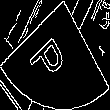P_NE: (32, 25, 78, 85)
